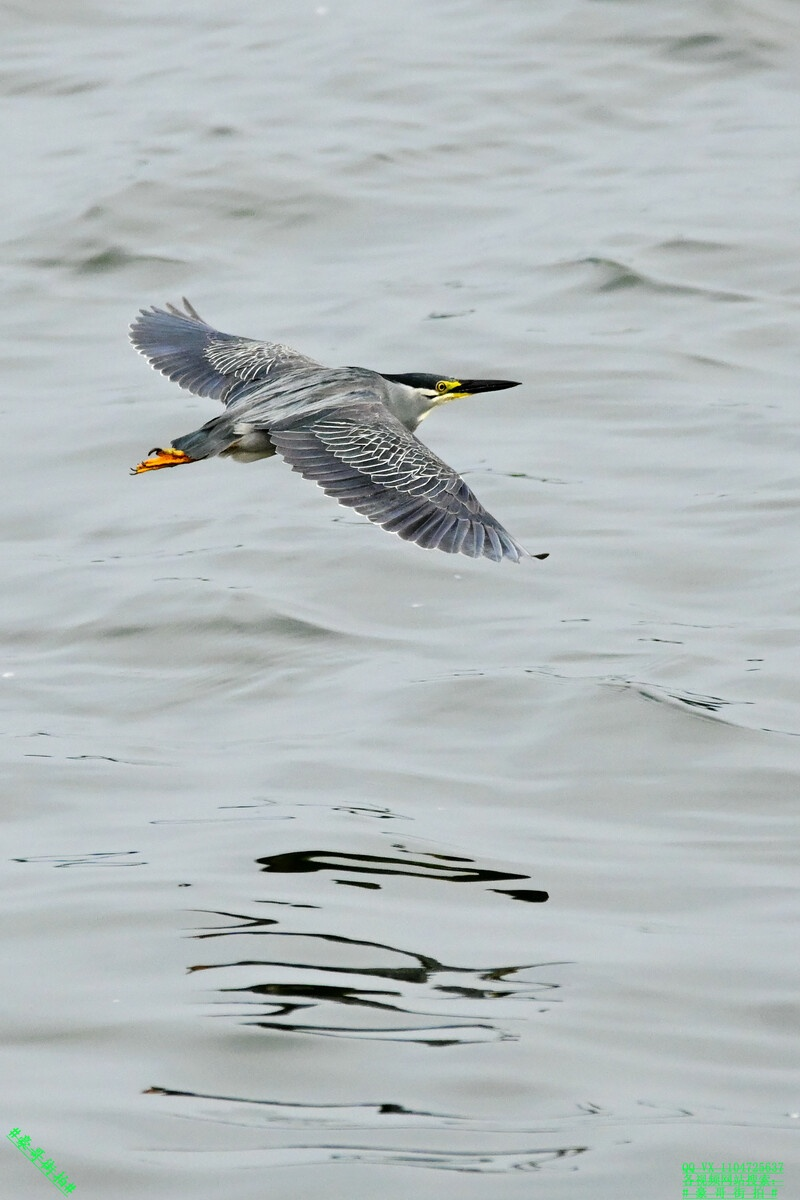bird: (103, 280, 532, 567)
